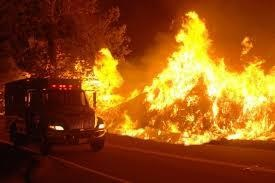fire: (55, 8, 275, 144)
